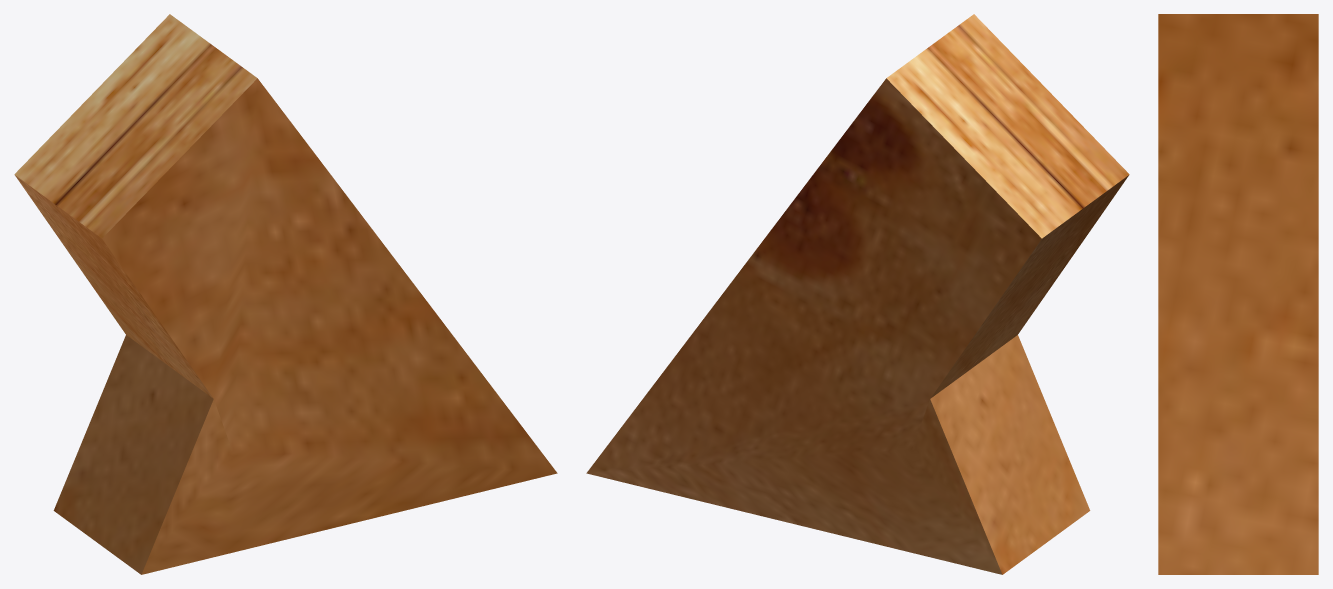
File: knife stand.FBX
The picture shows the model from 3 angles, left to right: view 1: azimuth 30°, elevation 25°; view 2: azimuth 150°, elevation 25°; view 3: azimuth 270°, elevation 25°; orthographic projection. The views are drawn at different scales.
Visible parts, largest first — view 1: Box001, Object001; view 2: Box001, Object001; view 3: Box001.
Boxes of the visible parts, x1,y1,x2,y2 form: Box001: [15, 78, 557, 574]; Object001: [14, 14, 257, 238]; Box001: [586, 78, 1128, 574]; Object001: [886, 14, 1129, 238]; Box001: [1158, 14, 1318, 574].
Bounding box in the file's own units: 94.13 × 92.46 × 31.4.
Materials: 2 (2 with a texture image).
